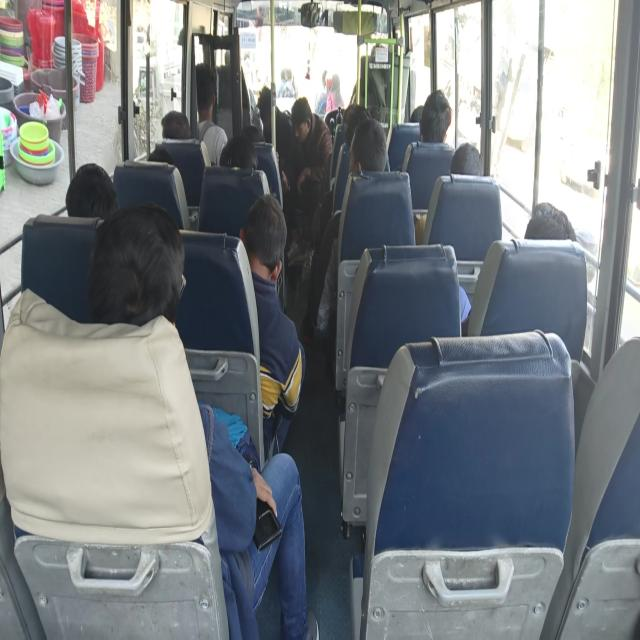person: (115, 212, 188, 319), (520, 193, 572, 254), (243, 198, 285, 263), (71, 165, 113, 220), (188, 66, 224, 114), (350, 128, 381, 176), (448, 148, 484, 184), (424, 92, 449, 142), (223, 142, 260, 174), (160, 110, 192, 143), (288, 94, 312, 135), (344, 108, 372, 138), (240, 124, 270, 150), (145, 146, 176, 167), (260, 84, 277, 120), (219, 42, 236, 68), (372, 39, 385, 61), (165, 112, 165, 114)
